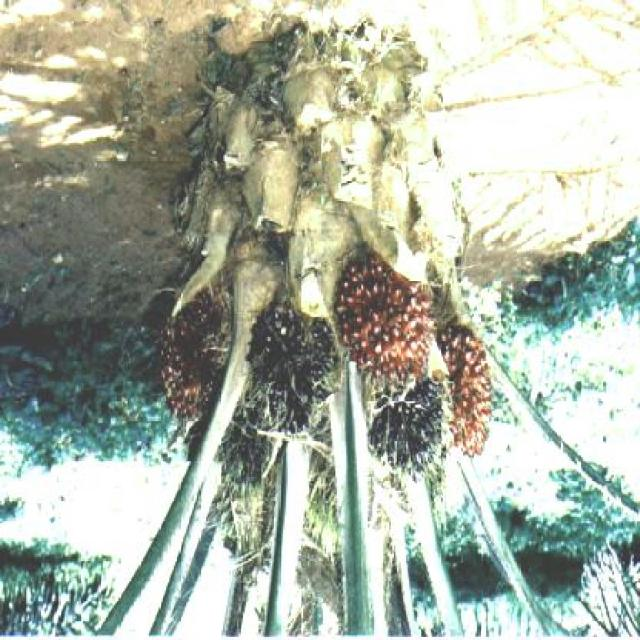palm-oil: (326, 231, 432, 383), (164, 296, 233, 439), (258, 307, 338, 430), (430, 325, 501, 463), (358, 373, 446, 467)
